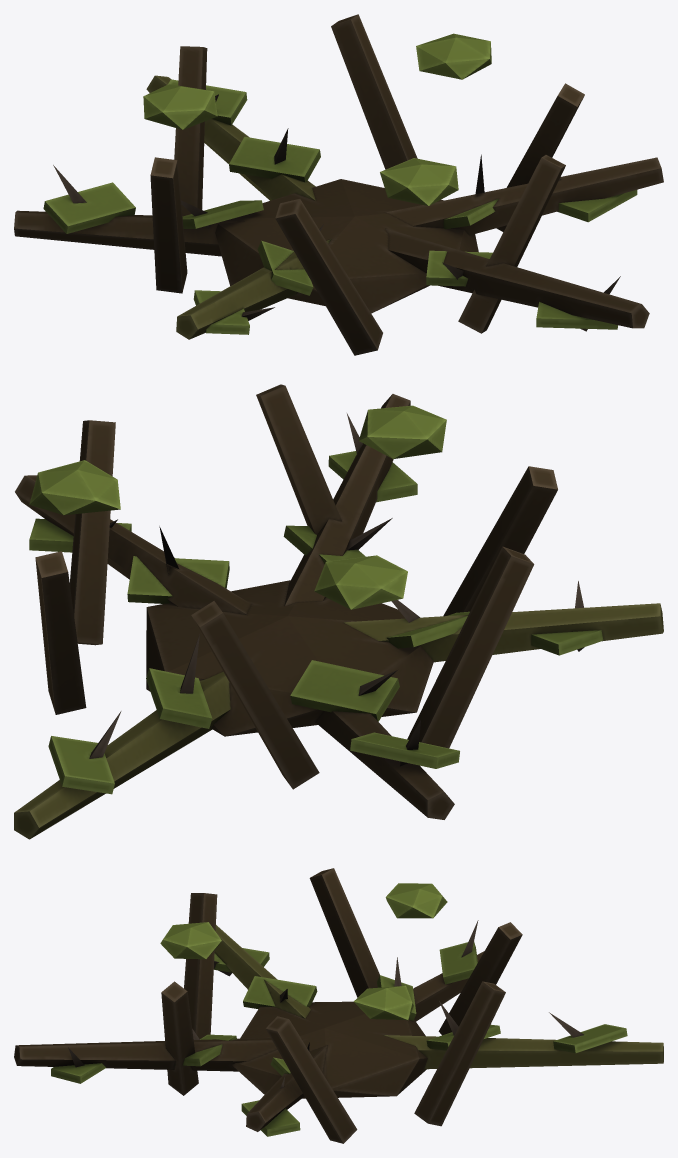
File: obj_vine.glb
3 views of the same model, one above another, from view 1: azimuth 30°, elevation 25°; view 2: azimuth 150°, elevation 25°; view 3: azimuth 270°, elevation 25° (orthographic). The views are drawn at different scales.
Parts seen in each view (by area): view 1: obj_vine; view 2: obj_vine; view 3: obj_vine.
Part boxes in pixels (x1,y1,x2,y2): obj_vine: [14, 14, 663, 355]; obj_vine: [14, 384, 663, 839]; obj_vine: [14, 868, 663, 1143].
Bounding box in the file's own units: 0.9486 × 0.3151 × 1.28.
1 material, 1 textured.
